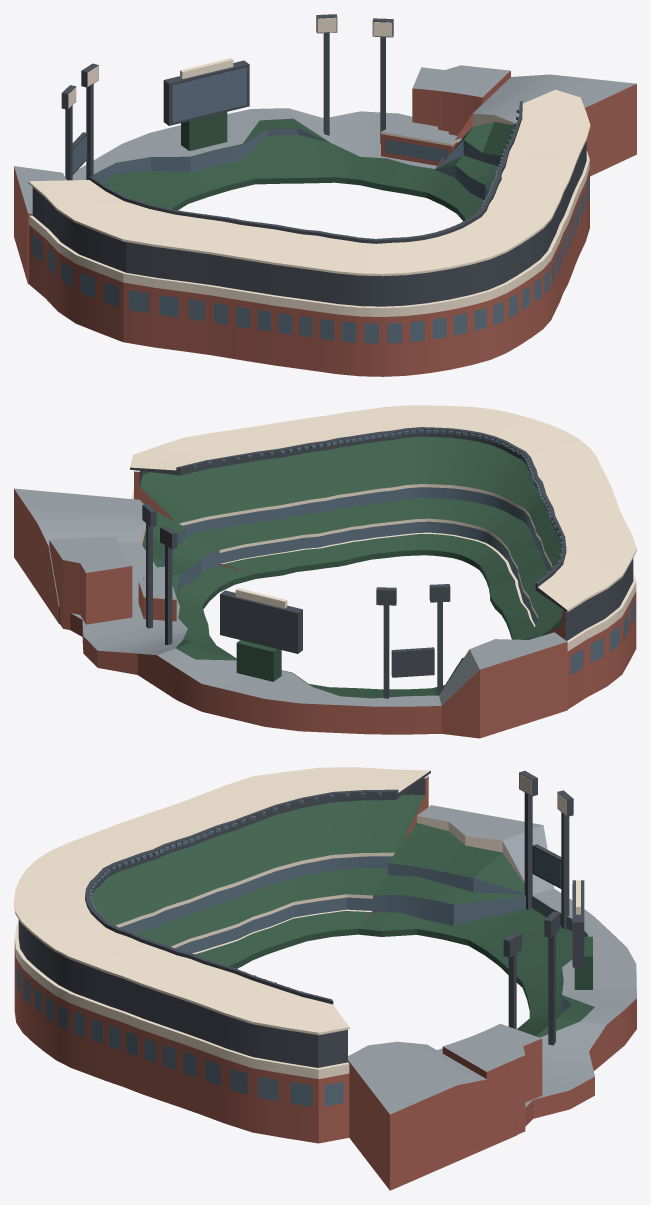
File: atl-truist-park.glb
3 views of the same model, one above another, from view 1: azimuth 30°, elevation 25°; view 2: azimuth 150°, elevation 25°; view 3: azimuth 270°, elevation 25° (orthographic). The views are drawn at different scales.
Parts seen in each view (by area): view 1: Truist Park; view 2: Truist Park; view 3: Truist Park.
Boxes of the visible parts, <box> form: Truist Park: <box>14,14,636,376</box>; Truist Park: <box>14,405,636,738</box>; Truist Park: <box>14,767,636,1190</box>.
Size of the model in its own units: 282 by 63.5 by 237.
